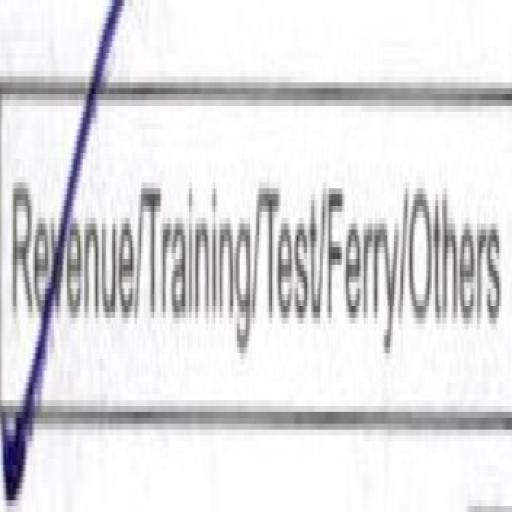check: (0, 23, 132, 512)
